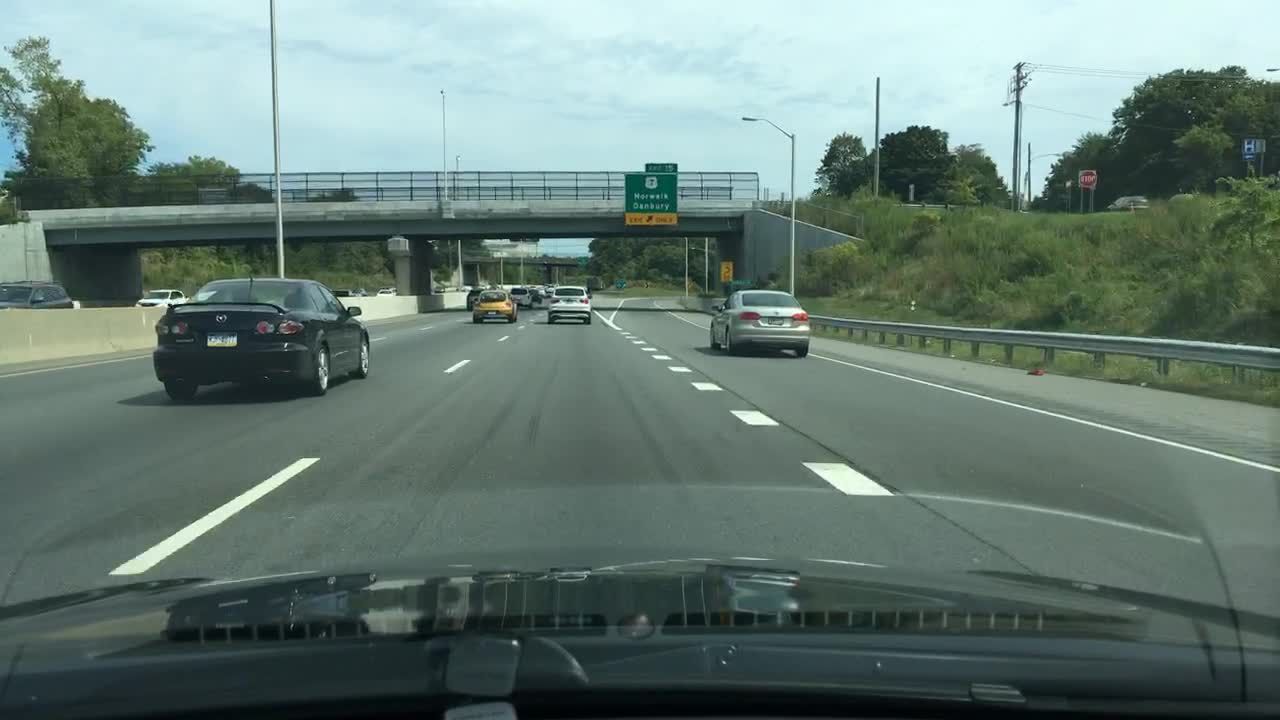car: (151, 274, 370, 401), (708, 289, 810, 358), (0, 279, 77, 311), (547, 285, 592, 325), (471, 288, 517, 323), (133, 289, 186, 307), (1107, 193, 1148, 212), (509, 286, 532, 310), (465, 288, 485, 311), (529, 287, 545, 303), (331, 288, 351, 296), (376, 288, 396, 296), (352, 288, 370, 295), (544, 284, 555, 293), (433, 287, 448, 293), (584, 286, 591, 298), (457, 286, 469, 292)
traffic sign: (623, 172, 680, 225), (1077, 168, 1097, 188), (644, 162, 678, 173), (719, 258, 732, 281), (1241, 138, 1257, 151), (730, 278, 755, 285), (905, 182, 913, 201), (1063, 177, 1072, 188), (578, 256, 588, 265), (1243, 153, 1255, 160), (615, 278, 623, 287), (644, 280, 649, 287)
